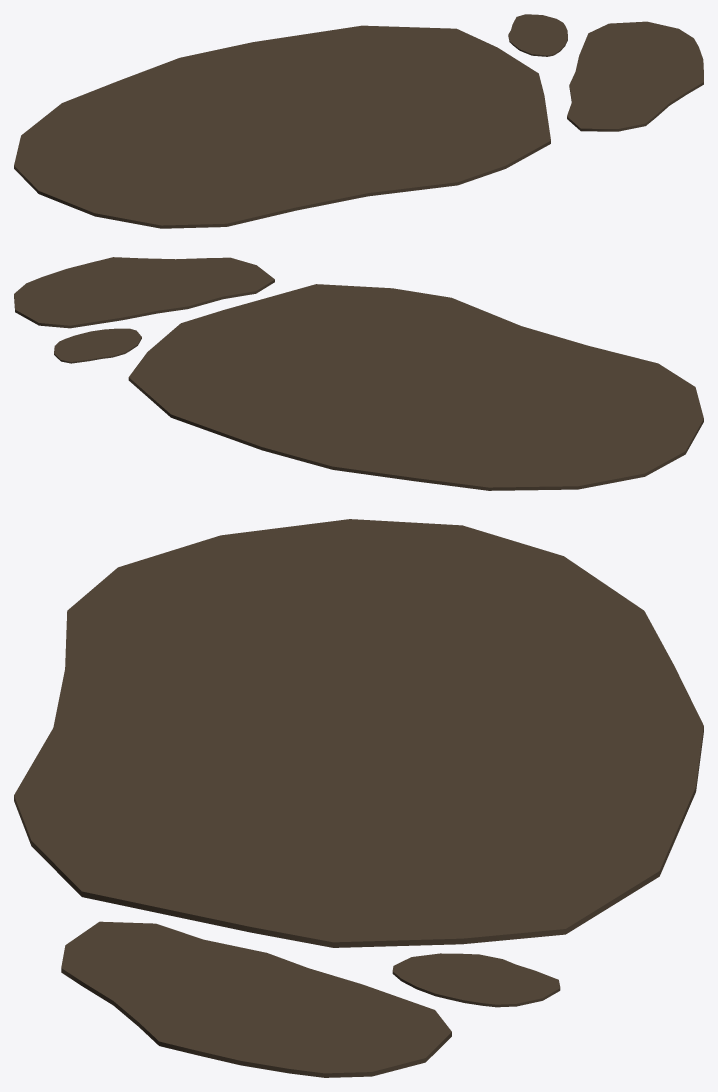
The model's file is Park_MODDER_2.fbx.
3 views of the same model, one above another, from view 1: azimuth 30°, elevation 25°; view 2: azimuth 150°, elevation 25°; view 3: azimuth 270°, elevation 25° (orthographic). The views are drawn at different scales.
Visible parts, largest first — view 1: polySurface5; view 2: polySurface5; view 3: polySurface5.
Part boxes in pixels (left/top/right/bottom): polySurface5: left=14, top=14, right=703, bottom=228; polySurface5: left=14, top=257, right=703, bottom=490; polySurface5: left=14, top=519, right=703, bottom=1077.
Size of the model in its own units: 20.49 by 0.0974 by 10.79.
